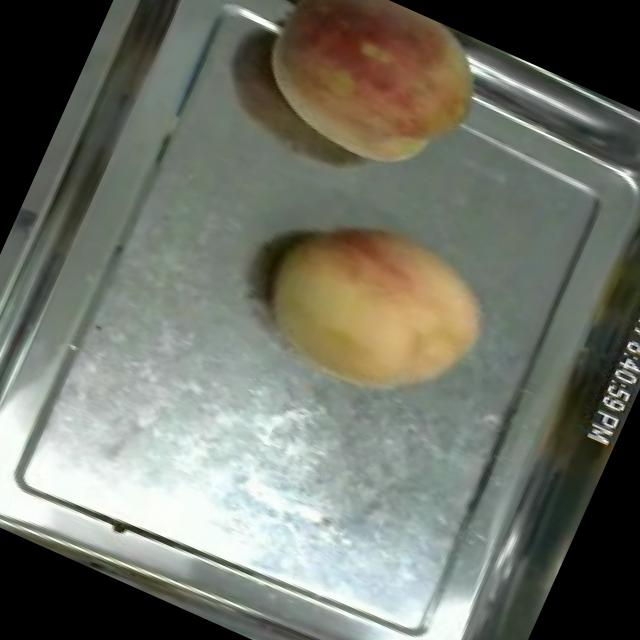Fruit: (231, 182, 514, 440), (231, 0, 507, 204)
